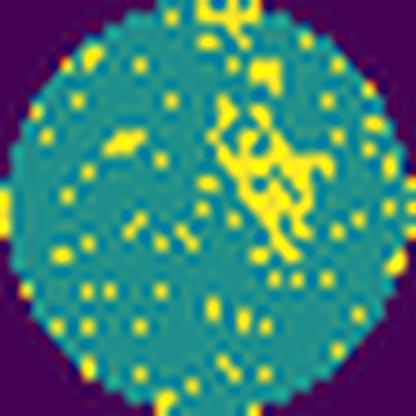Loc: (210, 96, 334, 260), (252, 57, 284, 91)
